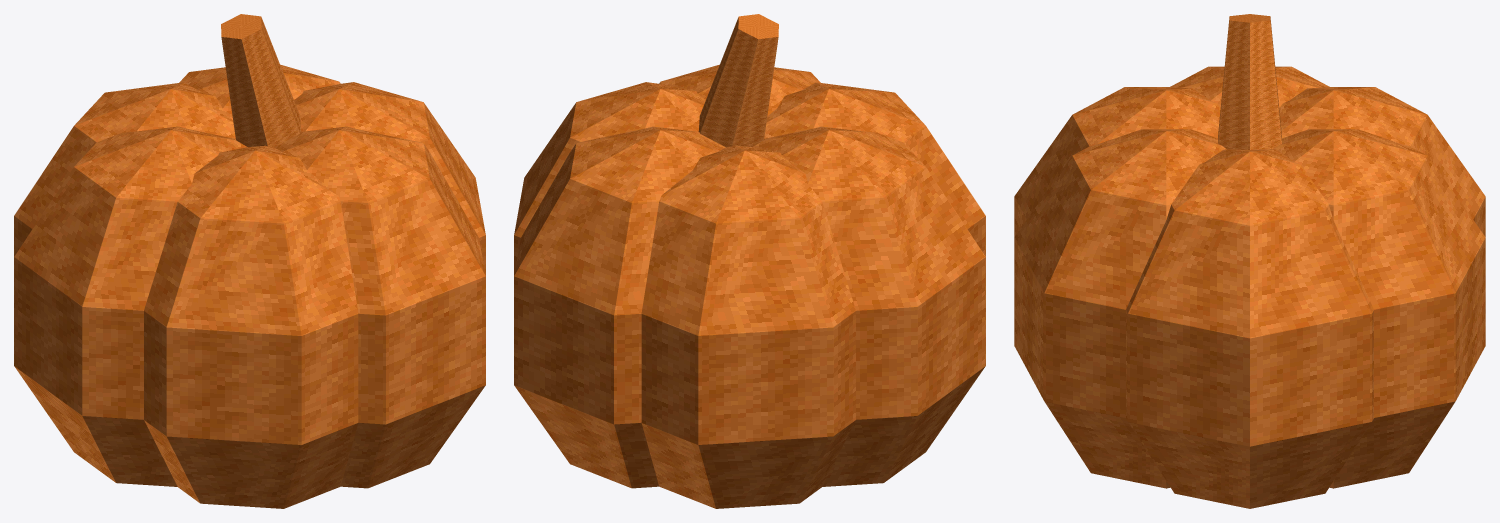
File: abobora.glb
3 views of the same model, side by side, from view 1: azimuth 30°, elevation 25°; view 2: azimuth 150°, elevation 25°; view 3: azimuth 270°, elevation 25° (orthographic).
Visible parts, largest first — view 1: abobora; view 2: abobora; view 3: abobora.
Part boxes in pixels (x1,y1,x2,y2): abobora: (14, 14, 485, 508); abobora: (514, 14, 985, 508); abobora: (1014, 14, 1485, 508).
Bounding box in the file's own units: 0.4566 × 0.4536 × 0.4396.
Materials: 1 (1 with a texture image).
